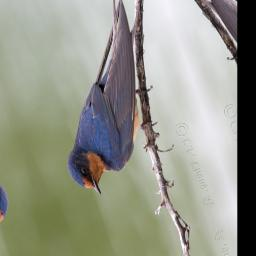Swallow: (13, 0, 184, 205)
